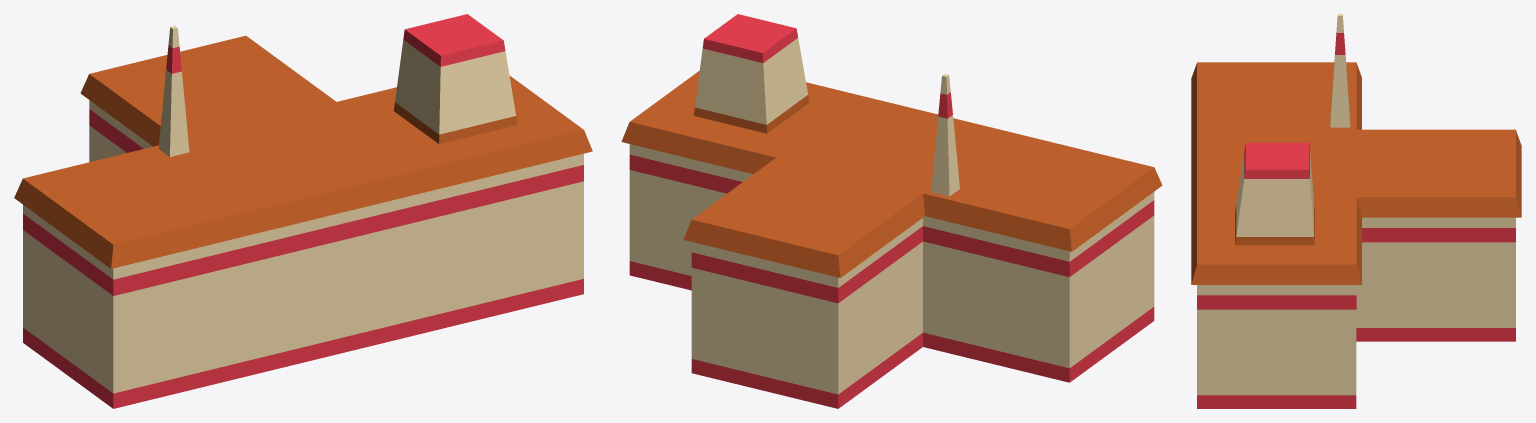
File: House_18.fbx
The picture shows the model from 3 angles, left to right: view 1: azimuth 30°, elevation 25°; view 2: azimuth 150°, elevation 25°; view 3: azimuth 270°, elevation 25°; orthographic projection. The views are drawn at different scales.
Visible parts, largest first — view 1: House_18; view 2: House_18; view 3: House_18.
Part boxes in pixels (x1=…): House_18: x1=14, y1=14, x2=592, y2=408; House_18: x1=621, y1=14, x2=1162, y2=408; House_18: x1=1191, y1=14, x2=1521, y2=408.
Size of the model in its own units: 614 by 350 by 414.
